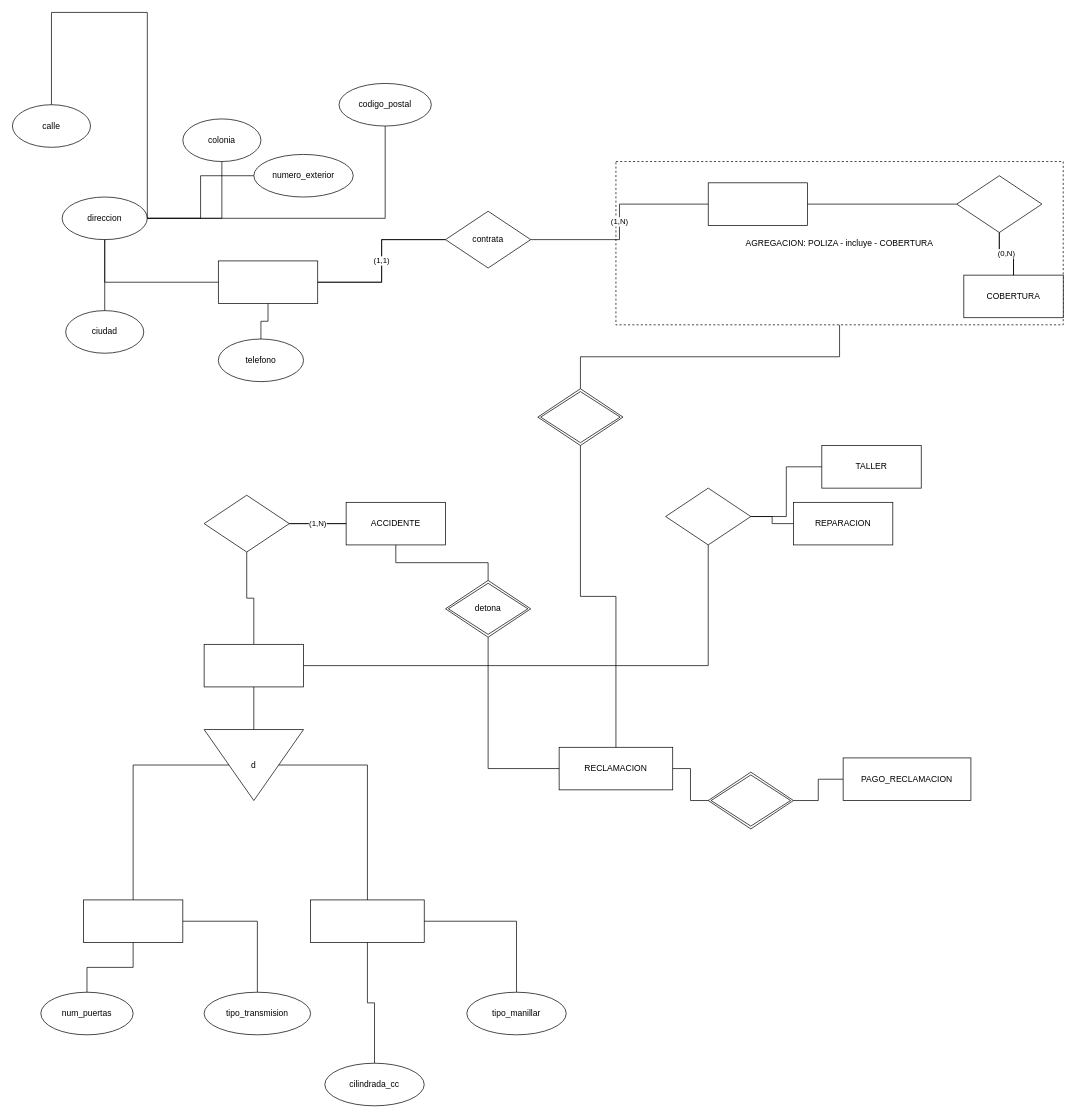
Some shapes in this 1076 by 1118 pixel diagram are drawn without their labels. Each missing label, with the box of its shape:
ampara: (537, 388, 623, 446)
asigna: (665, 487, 751, 545)
AUTOMOVIL: (83, 899, 183, 943)
CLIENTE: (218, 260, 318, 304)
identifica: (708, 771, 793, 829)
incluye: (956, 175, 1042, 233)
MOTOCICLETA: (310, 899, 424, 943)
POLIZA: (708, 182, 808, 225)
sufre: (203, 495, 289, 552)
VEHICULO: (203, 644, 304, 687)
